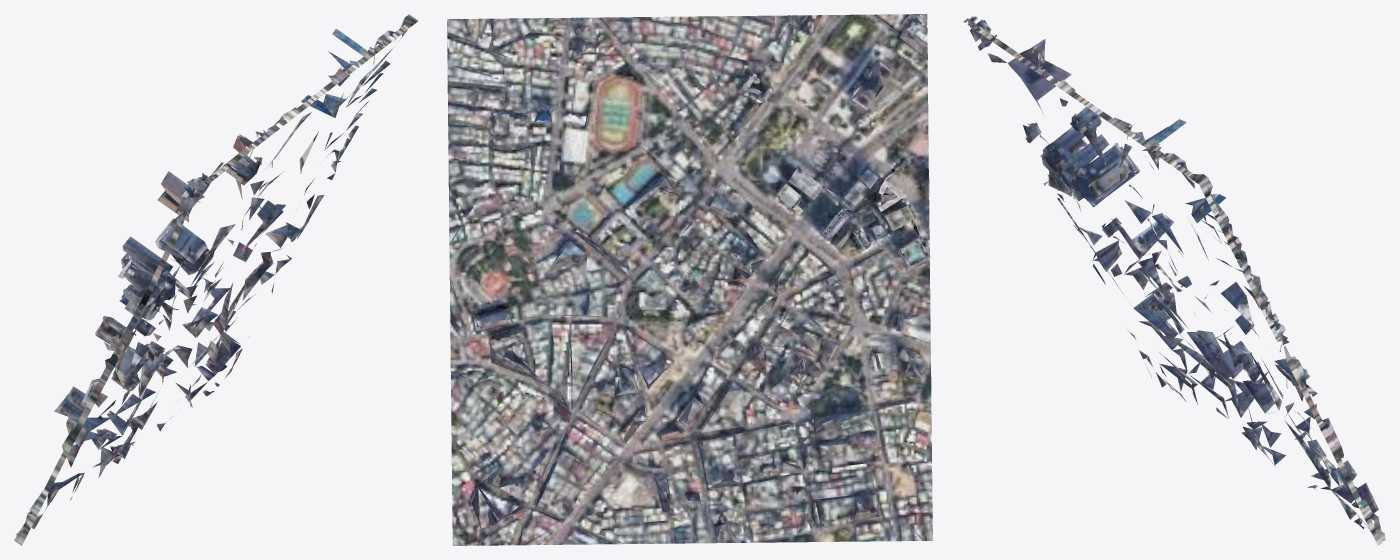
3 views of the same model, side by side, from view 1: azimuth 30°, elevation 25°; view 2: azimuth 150°, elevation 25°; view 3: azimuth 270°, elevation 25° (orthographic). The views are drawn at different scales.
Size of the model in its own units: 1229 by 1154 by 1038.
Materials: 2 (2 with a texture image).
